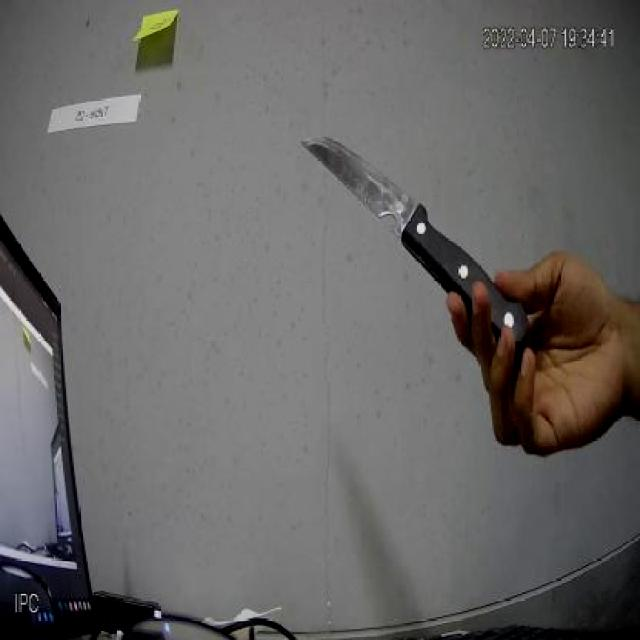knife: (295, 136, 534, 364)
